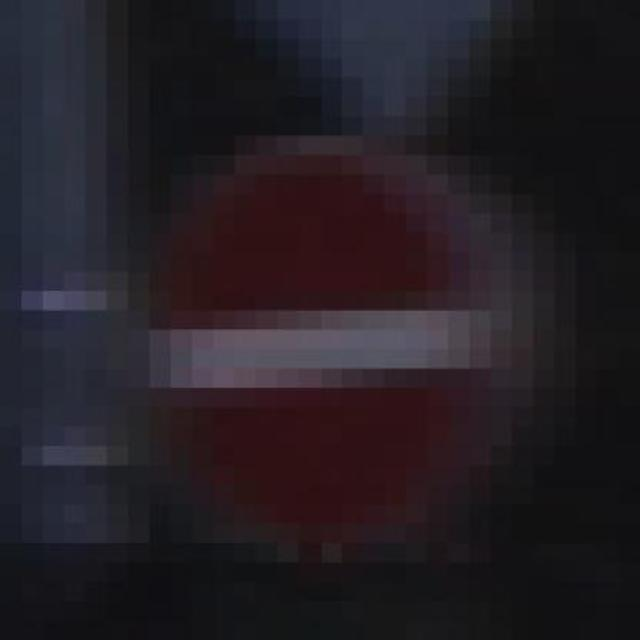B2: (136, 142, 496, 558)
